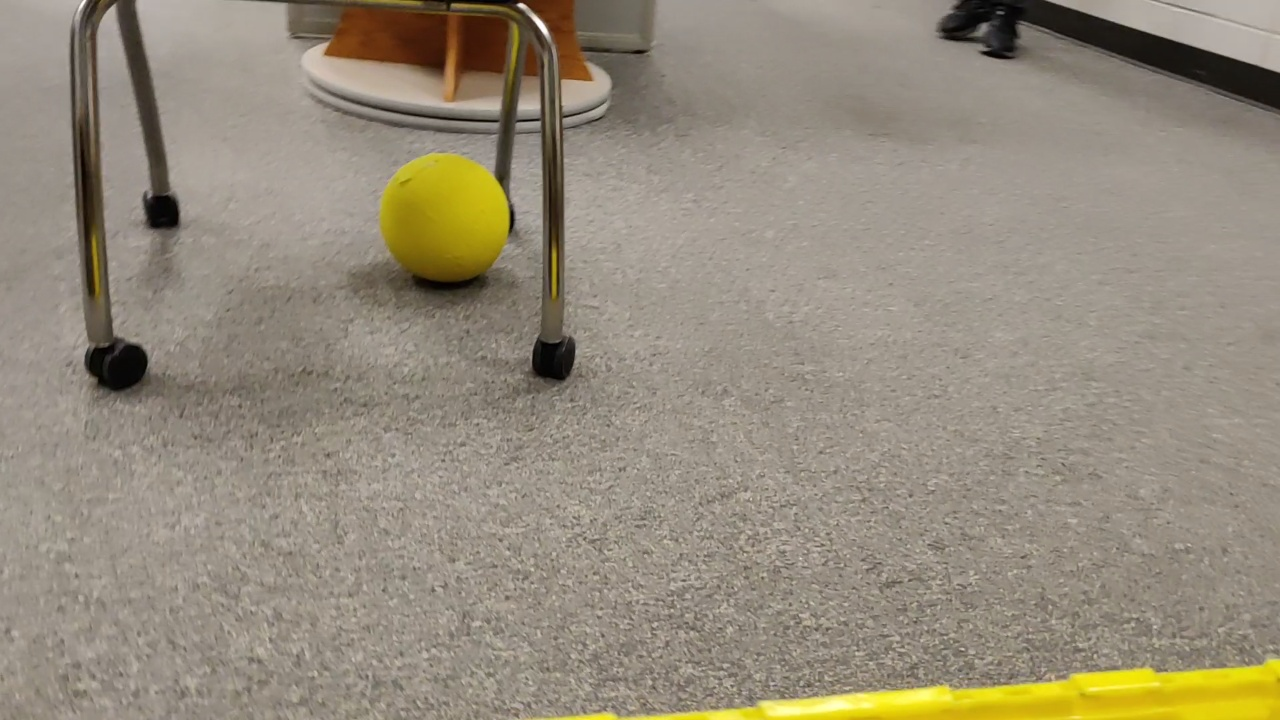Ball: (379, 151, 510, 282)
